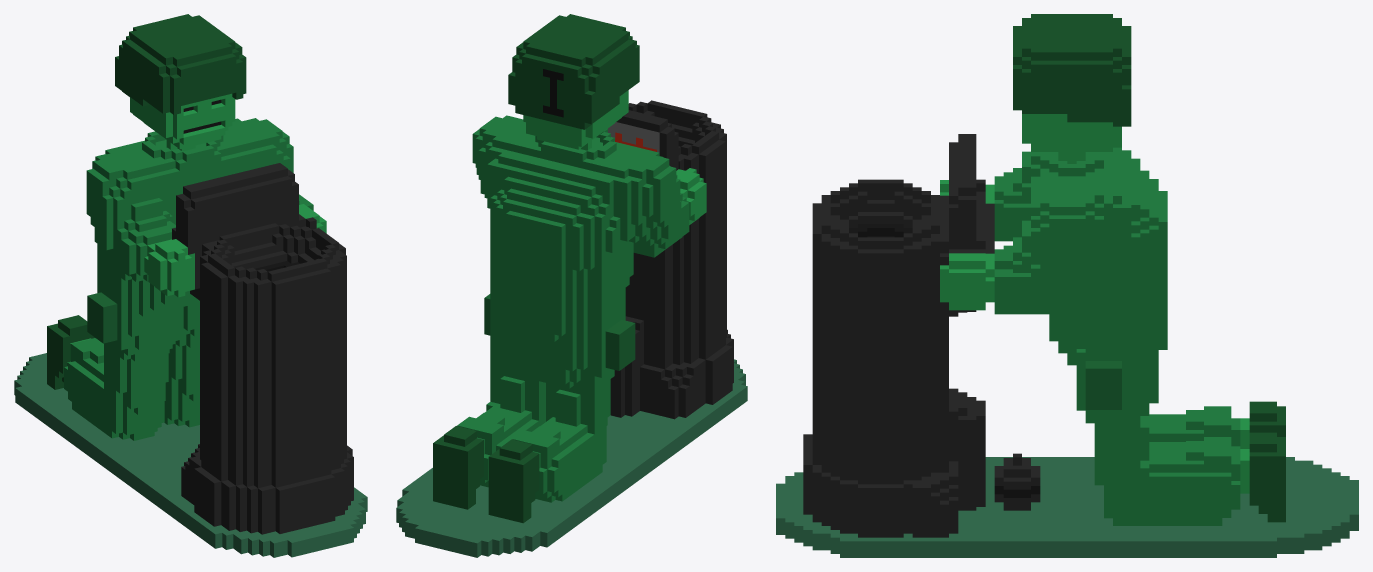
Rendered from mortar_soldier_LVL1_2.0.obj.
The picture shows the model from 3 angles, left to right: view 1: azimuth 30°, elevation 25°; view 2: azimuth 150°, elevation 25°; view 3: azimuth 270°, elevation 25°; orthographic projection. The views are drawn at different scales.
Size of the model in its own units: 2.7 by 5.8 by 6.4.
Materials: 1 (1 with a texture image).
